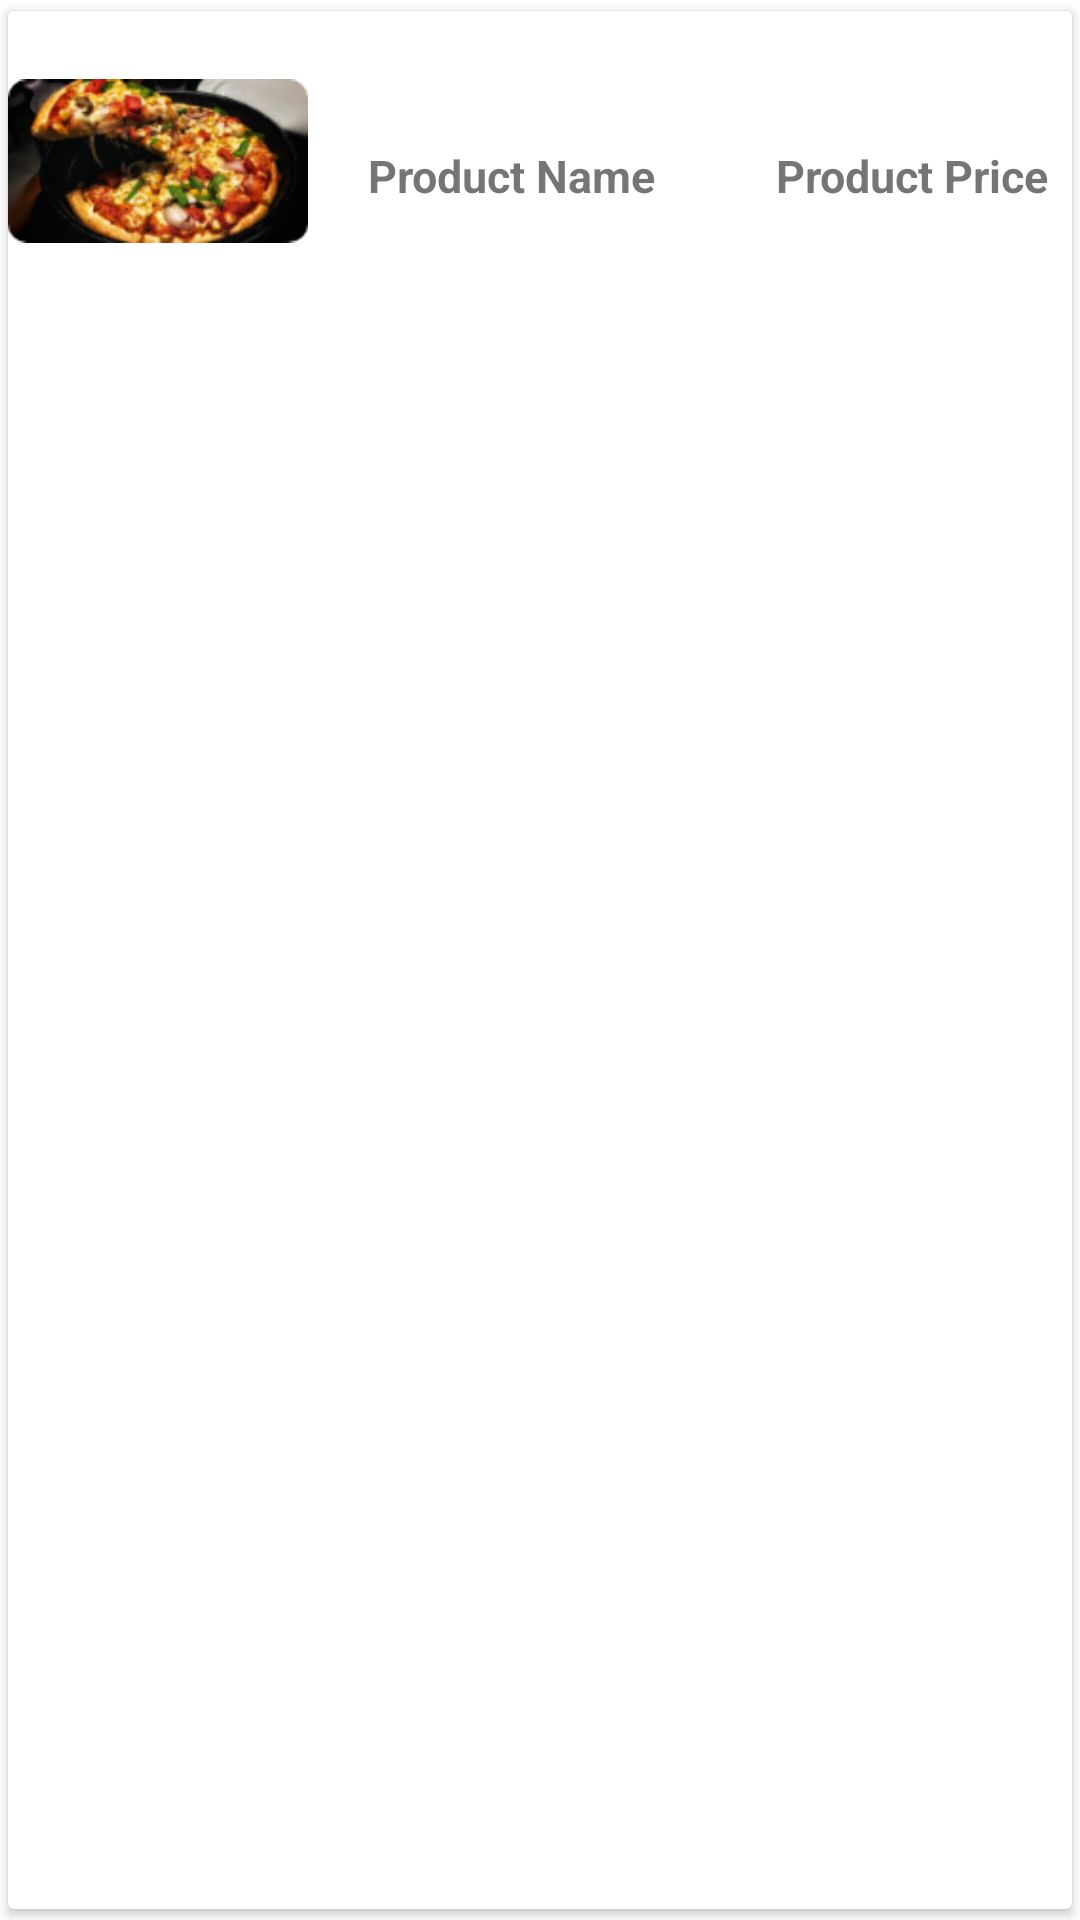

Locate icon controls on the screen. Image size 1080 × 1920, boxes as (x1, y1, x2, y2).
product item: (8, 79, 308, 243)
